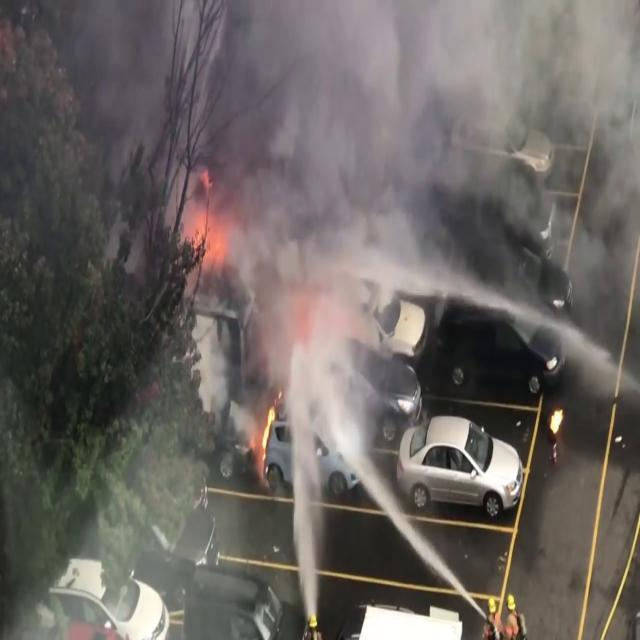Fire: (254, 396, 280, 474)
Smoke: (12, 0, 638, 481)
